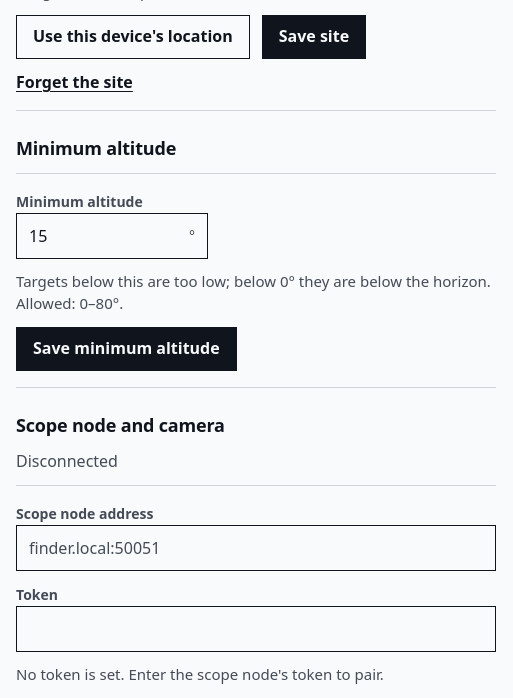
Setup › does not claim a failed edit was saved
This screenshot has width=513, height=698.
(page scrolled)
Click the button "Save minimum altitude" at (126, 349), box [16,327,237,371]
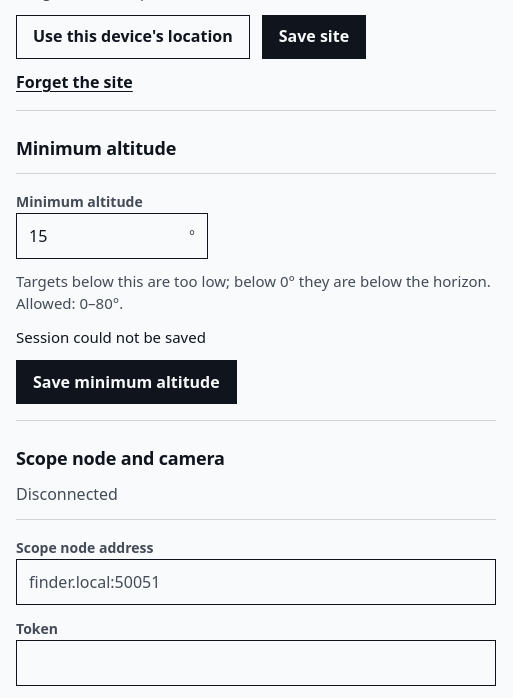
Expected: the text "Session could not be saved" is shown, [16,327,206,347]
